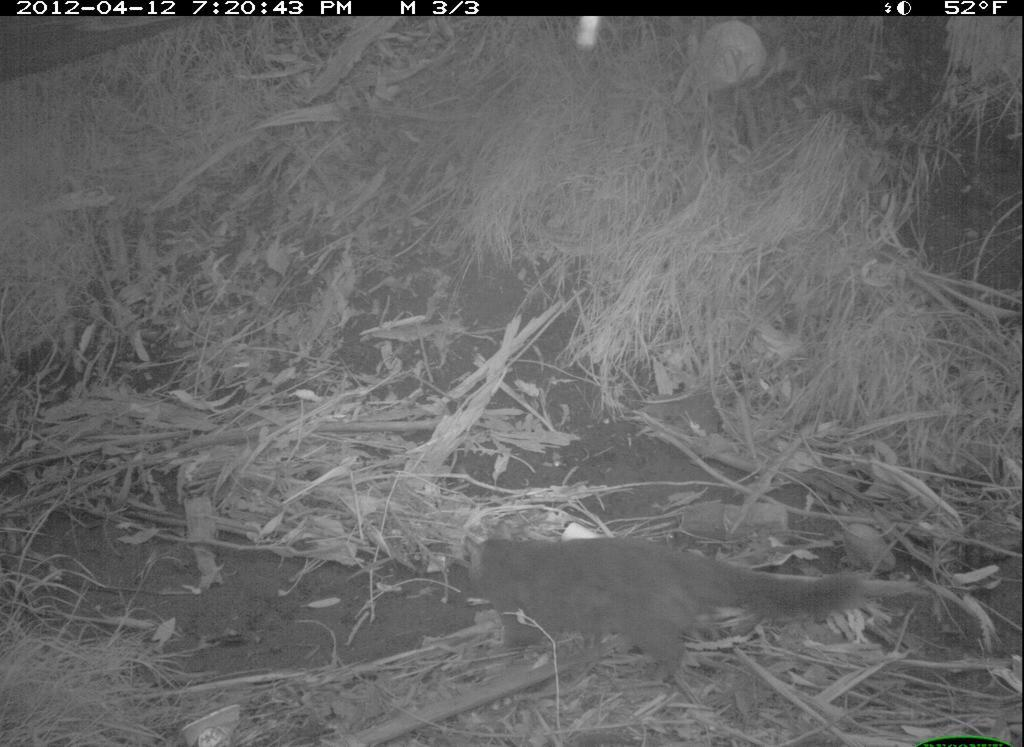cat: (429, 524, 880, 716)
